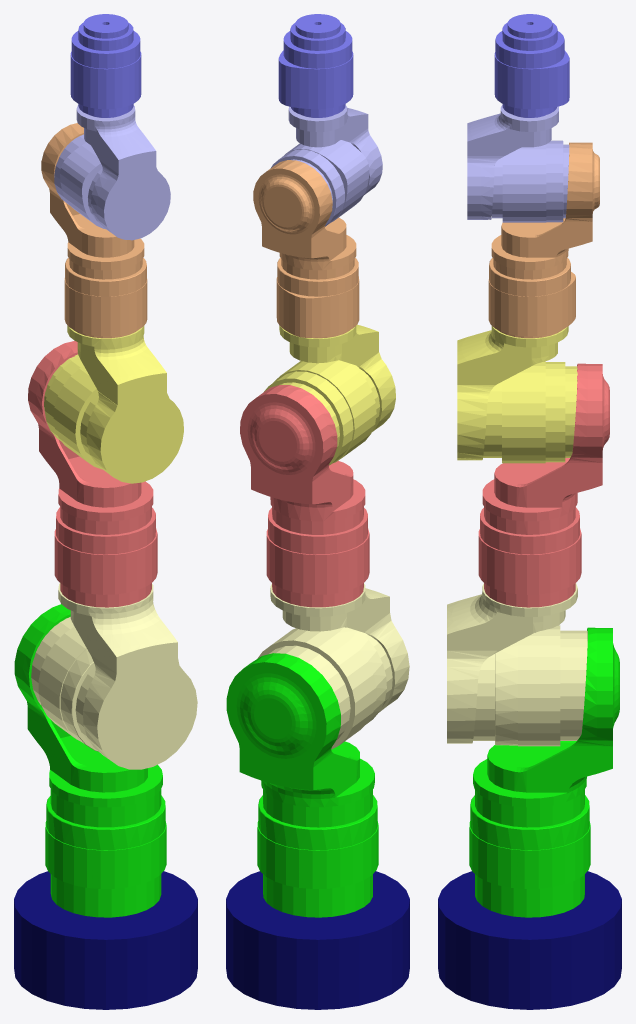
File: schunk-lwa3.dae
The picture shows the model from 3 angles, left to right: view 1: azimuth 30°, elevation 25°; view 2: azimuth 150°, elevation 25°; view 3: azimuth 270°, elevation 25°; orthographic projection.
Parts seen in each view (by area): view 1: link1, link2, base, link3, link4, link6, link5, link7; view 2: link1, link3, base, link5, link2, link4, link7, link6; view 3: link1, link2, base, link3, link4, link5, link6, link7.
Boxes of the visible parts, <box> form: link1: <box>14,604,166,917</box>; link2: <box>31,583,197,769</box>; base: <box>14,871,197,1009</box>; link3: <box>28,341,157,607</box>; link4: <box>44,325,183,483</box>; link6: <box>54,105,170,240</box>; link5: <box>41,123,147,338</box>; link7: <box>70,14,141,117</box>; link1: <box>226,653,378,917</box>; link3: <box>240,385,369,607</box>; base: <box>226,871,409,1009</box>; link5: <box>253,160,359,338</box>; link2: <box>257,583,409,749</box>; link4: <box>264,324,395,465</box>; link7: <box>278,14,353,117</box>; link6: <box>270,105,382,226</box>; link1: <box>469,627,619,917</box>; link2: <box>447,583,587,746</box>; base: <box>438,871,621,1009</box>; link3: <box>478,363,609,607</box>; link4: <box>457,326,577,463</box>; link5: <box>488,142,599,338</box>; link6: <box>467,105,569,222</box>; link7: <box>494,14,569,117</box>.
Size of the model in its own units: 0.1993 by 0.1997 by 1.14.
